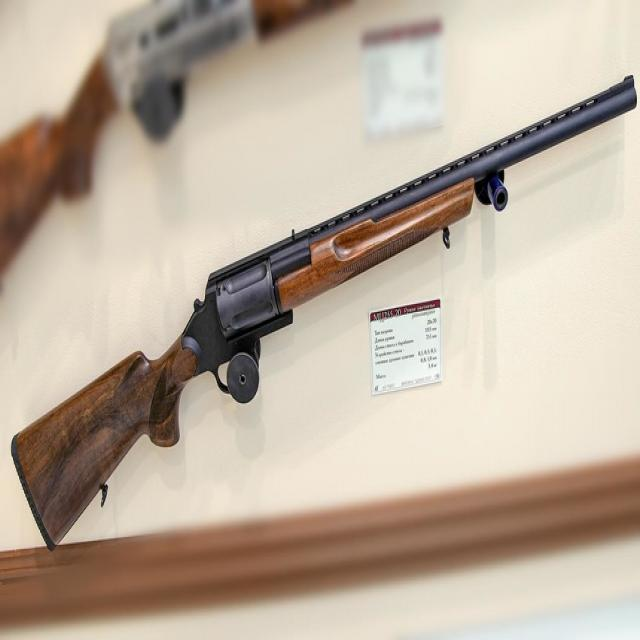shotgun: (10, 57, 634, 545)
